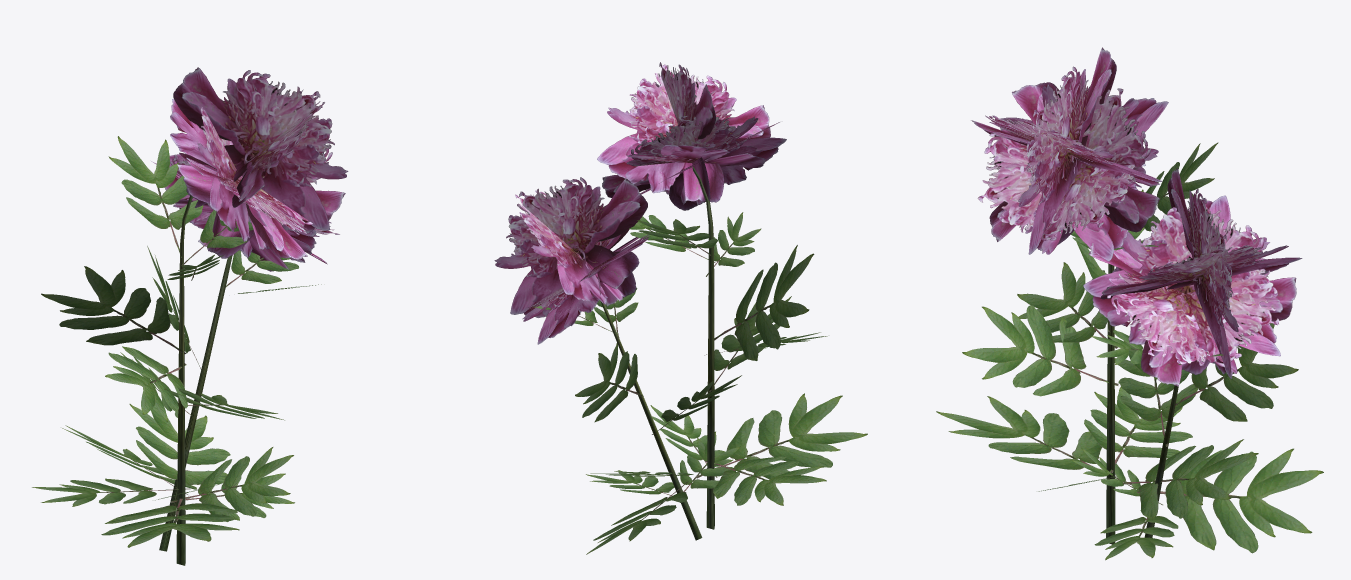
Rendered from tree_g.FBX.
3 renders of one model, left to right at view 1: azimuth 30°, elevation 25°; view 2: azimuth 150°, elevation 25°; view 3: azimuth 270°, elevation 25°, orthographic. The views are drawn at different scales.
Visible parts, largest first — view 1: tree_g; view 2: tree_g; view 3: tree_g.
Part boxes in pixels (bbox=[...]): tree_g: bbox=[32, 67, 348, 565]; tree_g: bbox=[494, 62, 867, 554]; tree_g: bbox=[936, 47, 1323, 560].
Bounding box in the file's own units: 1.51 × 2.12 × 1.44.
1 material, 1 textured.
